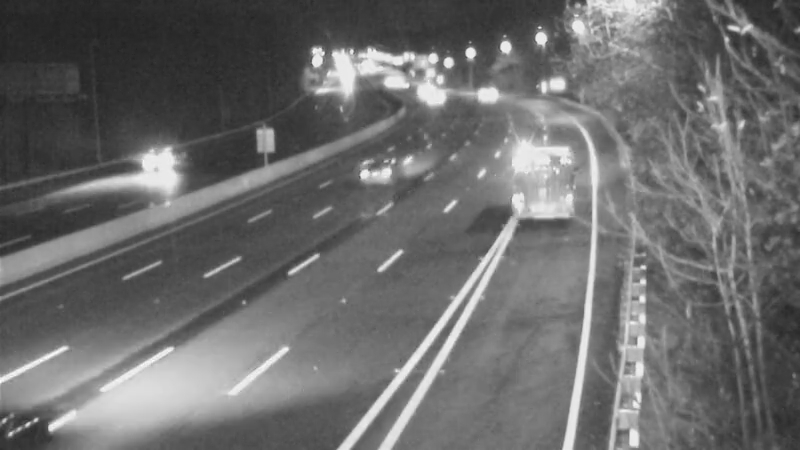vehicle: (329, 132, 409, 212), (490, 121, 570, 201), (116, 121, 196, 201), (399, 63, 449, 113), (461, 67, 511, 117), (412, 77, 462, 127)
